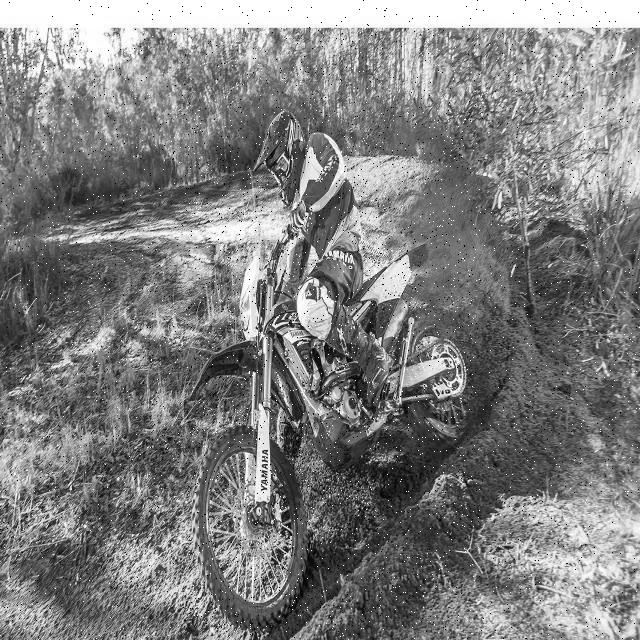Motorbike: (188, 110, 474, 630)
